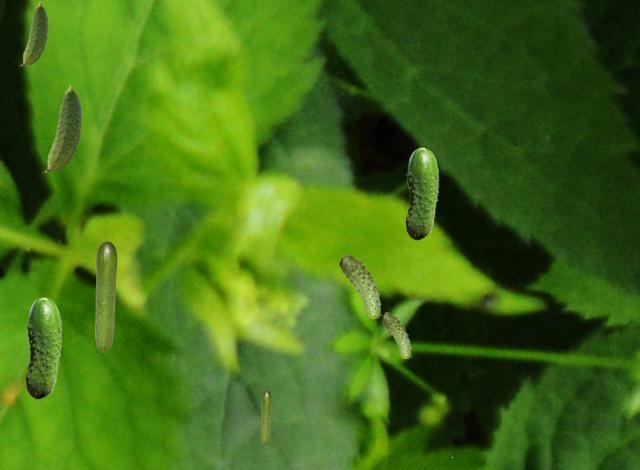cucumber: (25, 297, 61, 398), (42, 85, 81, 172), (405, 147, 438, 239), (339, 254, 380, 317), (95, 241, 116, 351), (19, 2, 47, 65), (381, 312, 410, 357), (261, 390, 270, 444)
